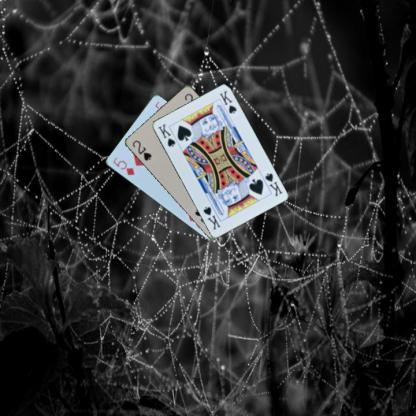2s: (130, 137, 152, 162)
5d: (110, 154, 136, 176)
Ks: (262, 170, 284, 198), (156, 121, 177, 148)
